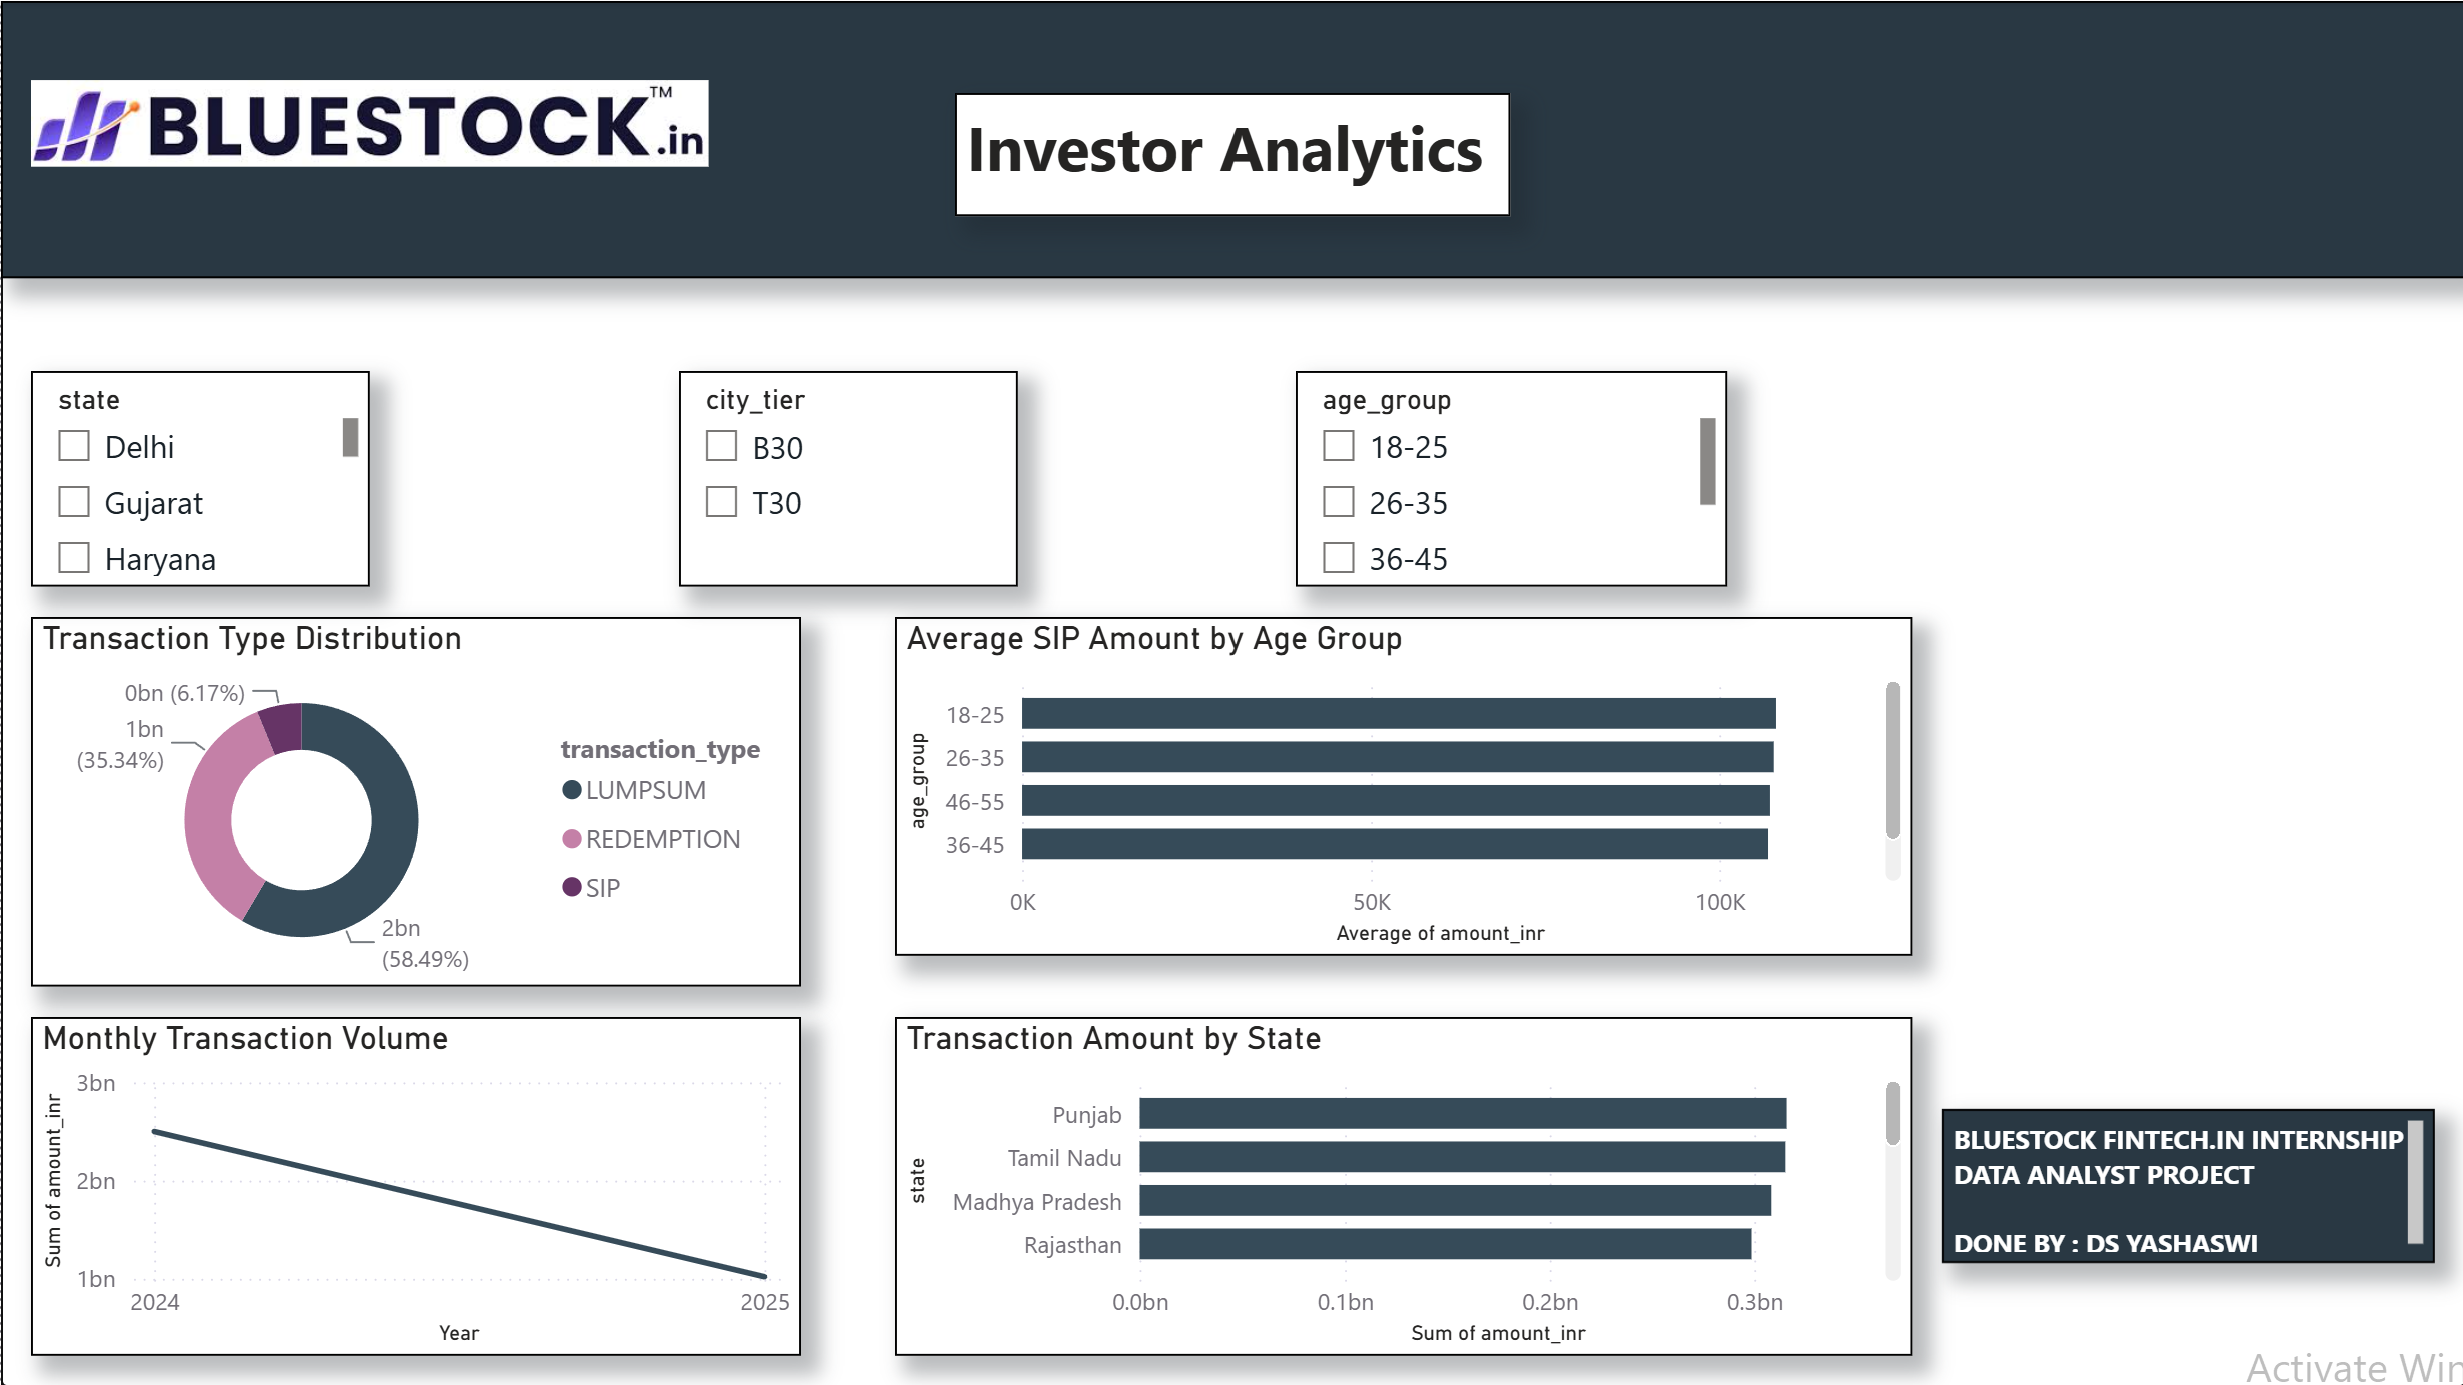

What the dashboard file says about the page in this screenshot:
{"tool":"powerbi","page":{"name":"Investor Analytics","canvas":[1280,720],"ordinal":2},"visuals":[{"type":"clusteredBarChart","title":"Transaction Amount by State","fields":{"Y":["Sum(08_investor_transactions_clean.amount_inr)"],"Category":["08_investor_transactions_clean.state"]},"box":[464,528,528,176],"z":0},{"type":"donutChart","title":"Transaction Type Distribution","fields":{"Category":["08_investor_transactions_clean.transaction_type"],"Y":["Sum(08_investor_transactions_clean.amount_inr)"]},"box":[16,320,400,192],"z":1},{"type":"clusteredBarChart","title":"Average SIP Amount by Age Group","fields":{"Category":["08_investor_transactions_clean.age_group"],"Y":["Avg(08_investor_transactions_clean.amount_inr)"]},"box":[464,320,528,176],"z":2},{"type":"lineChart","title":"Monthly Transaction Volume","fields":{"Category":["08_investor_transactions_clean.transaction_date.Variation.Date Hierarchy.Year","08_investor_transactions_clean.transaction_date.Variation.Date Hierarchy.Month","08_investor_transactions_clean.transaction_date.Variation.Date Hierarchy.Day"],"Y":["Sum(08_investor_transactions_clean.amount_inr)"]},"box":[16,528,400,176],"z":3},{"type":"slicer","fields":{"Values":["08_investor_transactions_clean.state"]},"box":[16,192,176,112],"z":4},{"type":"slicer","fields":{"Values":["08_investor_transactions_clean.age_group"]},"box":[672,192,224,112],"z":5},{"type":"slicer","fields":{"Values":["08_investor_transactions_clean.city_tier"]},"box":[352,192,176,112],"z":6},{"type":"textbox","box":[0,0,1280,144],"z":7},{"type":"textbox","box":[496,48,288,64],"z":8},{"type":"image","box":[16,16,352,96],"z":10},{"type":"textbox","box":[1008,576,256,80],"z":11}]}

Visuals, with their boxes in screenshot pixels (x1, y1, x2, y2), scaled from the page's 1280x720 canvas onto the 2463x1385 screenshot:
"Transaction Amount by State" clusteredBarChart: region(893, 1016, 1909, 1354)
"Transaction Type Distribution" donutChart: region(31, 616, 800, 985)
"Average SIP Amount by Age Group" clusteredBarChart: region(893, 616, 1909, 954)
"Monthly Transaction Volume" lineChart: region(31, 1016, 800, 1354)
slicer - 08_investor_transactions_clean.state: region(31, 369, 369, 585)
slicer - 08_investor_transactions_clean.age_group: region(1293, 369, 1724, 585)
slicer - 08_investor_transactions_clean.city_tier: region(677, 369, 1016, 585)
textbox: region(0, 0, 2462, 277)
textbox: region(954, 92, 1509, 215)
image: region(31, 31, 708, 215)
textbox: region(1940, 1108, 2432, 1262)
